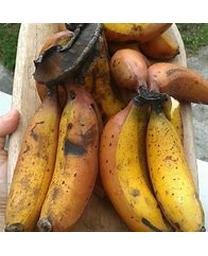banana: (8, 25, 206, 231)
